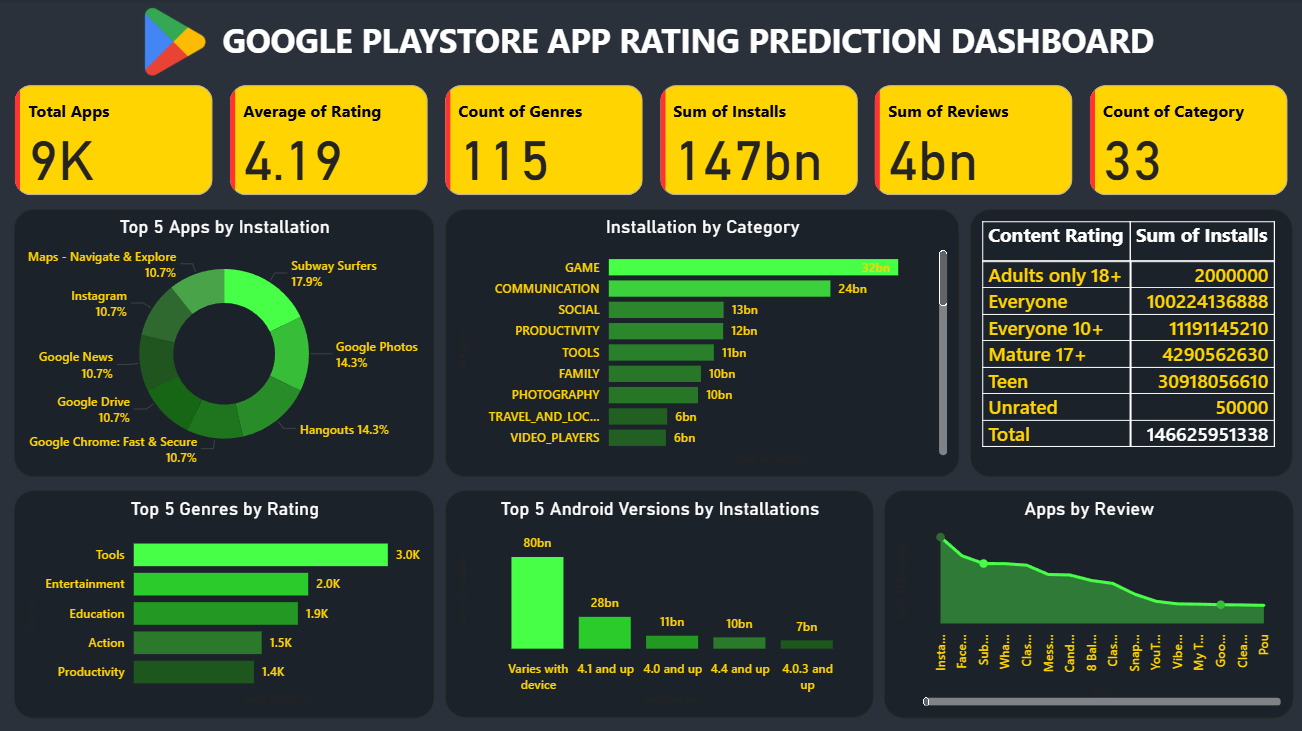

The dashboard page shown, as its layout file describes it:
{"tool":"powerbi","page":{"name":"Page 1","canvas":[1280,720],"ordinal":0},"visuals":[{"type":"cardVisual","fields":{"Data":["google_playstore_apps_rating_cleaned.Total Apps","Avg(google_playstore_apps_rating_cleaned.Rating)","Count(google_playstore_apps_rating_cleaned.Genres)","Sum(google_playstore_apps_rating_cleaned.Installs)","Sum(google_playstore_apps_rating_cleaned.Reviews)","Count(google_playstore_apps_rating_cleaned.Category)"]},"box":[9.6,79.6,1259.7,118],"z":0},{"type":"donutChart","title":"Top 5 Apps by Installation","fields":{"Category":["google_playstore_apps_rating_cleaned.App"],"Y":["Sum(google_playstore_apps_rating_cleaned.Installs)"]},"box":[13.7,205.8,413,263.5],"z":1000},{"type":"barChart","title":"Top 5 Genres by Rating","fields":{"Category":["google_playstore_apps_rating_cleaned.Genres"],"Y":["Sum(google_playstore_apps_rating_cleaned.Rating)"]},"box":[13.7,481.6,413,223.7],"z":2000},{"type":"textbox","box":[214.1,13.7,933.1,57.6],"z":4000},{"type":"image","box":[129,4.1,85.1,76.8],"z":5000},{"type":"areaChart","title":"Apps by Review","fields":{"Category":["google_playstore_apps_rating_cleaned.App"],"Y":["Sum(google_playstore_apps_rating_cleaned.Reviews)"]},"box":[867.2,481.6,402.1,223.7],"z":6000},{"type":"pivotTable","fields":{"Rows":["google_playstore_apps_rating_cleaned.Content Rating"],"Values":["Sum(google_playstore_apps_rating_cleaned.Installs)"]},"box":[952.3,205.8,317,263.5],"z":7000},{"type":"barChart","title":"Installation by Category","fields":{"Category":["google_playstore_apps_rating_cleaned.Category"],"Y":["Sum(google_playstore_apps_rating_cleaned.Installs)"]},"box":[436.4,205.8,505,263.5],"z":8000},{"type":"columnChart","title":"Top 5 Android Versions by Installations","fields":{"Category":["google_playstore_apps_rating_cleaned.Android Ver"],"Y":["Sum(google_playstore_apps_rating_cleaned.Installs)"]},"box":[436.8,482.2,420.9,223.3],"z":8001}]}

Visuals, with their boxes in screenshot pixels (x1, y1, x2, y2), scaled from the page's 1280x720 canvas onto the 1302x731 screenshot:
cardVisual - google_playstore_apps_rating_cleaned.Total Apps x Avg(google_playstore_apps_rating_cleaned.Rating): bbox=(10, 81, 1291, 201)
"Top 5 Apps by Installation" donutChart: bbox=(14, 209, 434, 476)
"Top 5 Genres by Rating" barChart: bbox=(14, 489, 434, 716)
textbox: bbox=(218, 14, 1167, 72)
image: bbox=(131, 4, 218, 82)
"Apps by Review" areaChart: bbox=(882, 489, 1291, 716)
pivotTable - google_playstore_apps_rating_cleaned.Content Rating x Sum(google_playstore_apps_rating_cleaned.Installs): bbox=(969, 209, 1291, 476)
"Installation by Category" barChart: bbox=(444, 209, 958, 476)
"Top 5 Android Versions by Installations" columnChart: bbox=(444, 490, 872, 716)
